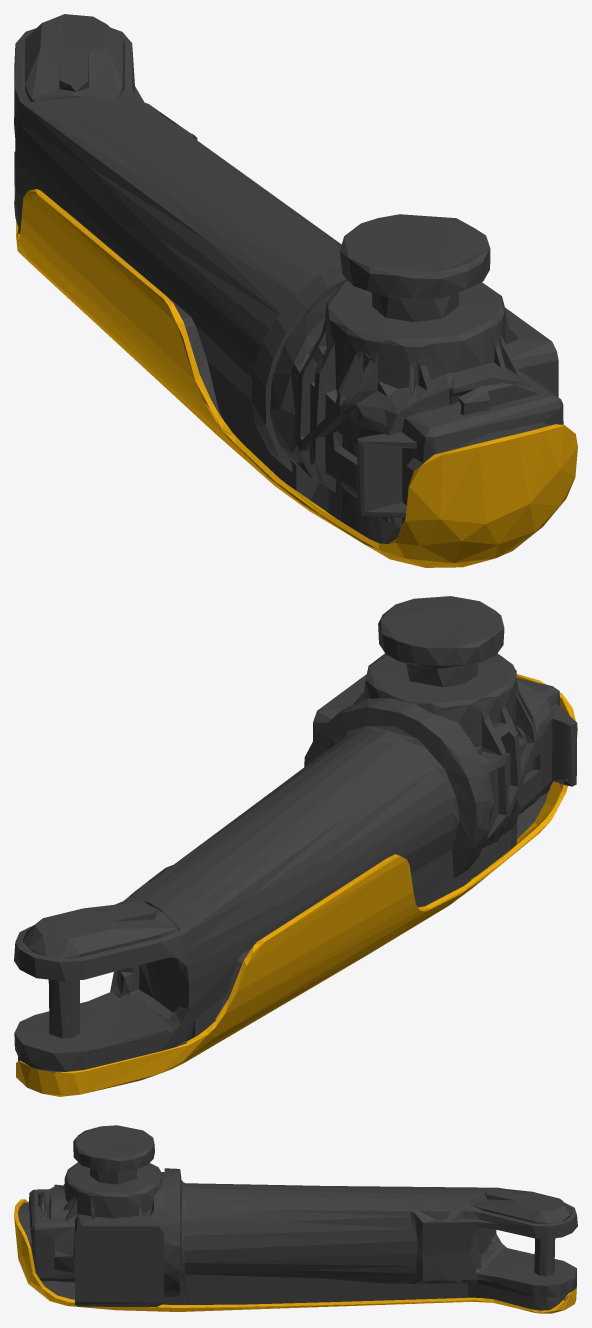
File: front_right_upper_leg_compressed.dae
3 renders of one model, top to bottom at view 1: azimuth 30°, elevation 25°; view 2: azimuth 150°, elevation 25°; view 3: azimuth 270°, elevation 25°, orthographic. The views are drawn at different scales.
Visible parts, largest first — view 1: node; view 2: node; view 3: node.
Part boxes in pixels (x1,y1,x2,y2): node: (14, 14, 577, 567); node: (14, 596, 577, 1096); node: (14, 1125, 577, 1313).
Bounding box in the file's own units: 0.1013 × 0.1324 × 0.4188.
1 material, 1 textured.
